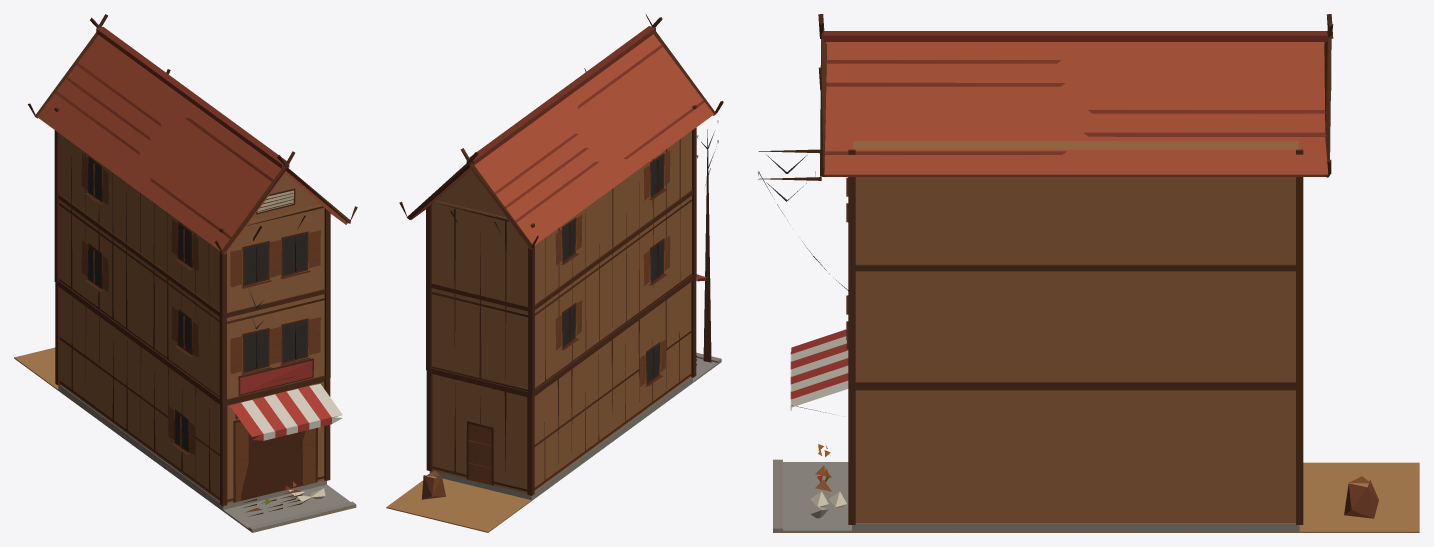
The model's file is bay2_left.glb.
The picture shows the model from 3 angles, left to right: view 1: azimuth 30°, elevation 25°; view 2: azimuth 150°, elevation 25°; view 3: azimuth 270°, elevation 25°; orthographic projection. The views are drawn at different scales.
Parts seen in each view (by area): view 1: body, windows; view 2: body, windows; view 3: body.
Boxes of the visible parts, box(x1,y1,x2,y2) form: body: box(14, 14, 357, 532); windows: box(88, 159, 306, 450); body: box(386, 14, 723, 532); windows: box(563, 155, 663, 381); body: box(757, 14, 1419, 532).
Bounding box in the file's own units: 5.53 × 13.03 × 16.4.
